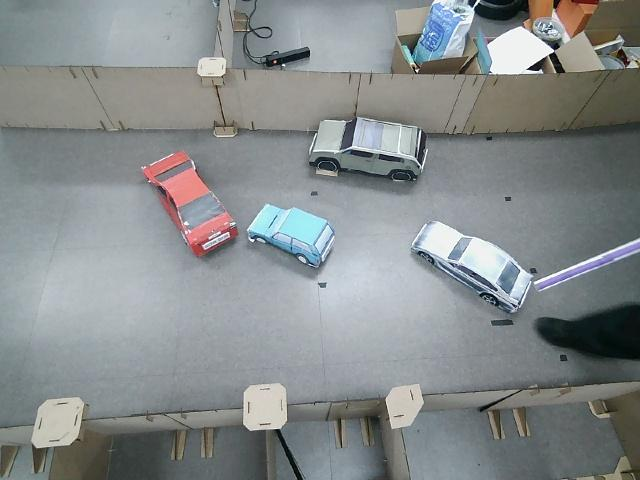car: (413, 219, 533, 313), (142, 149, 238, 260), (311, 117, 425, 181), (248, 203, 334, 269)
